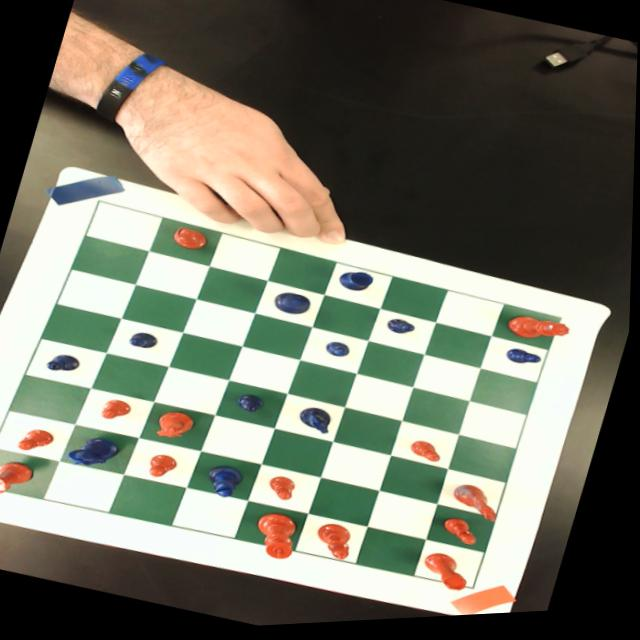B: (205, 462, 248, 502)
K: (272, 289, 316, 321)
N: (66, 430, 125, 475), (299, 405, 339, 439)
P: (47, 349, 86, 376), (507, 350, 545, 374), (237, 392, 270, 418), (130, 330, 161, 353), (387, 319, 419, 341), (324, 341, 354, 363)
R: (337, 268, 376, 298)
b: (316, 523, 360, 565), (170, 224, 211, 255)
k: (250, 509, 305, 565)
n: (451, 484, 509, 530), (154, 407, 201, 447)
p: (441, 517, 486, 553), (17, 423, 60, 457), (267, 473, 302, 506), (146, 451, 181, 483), (409, 440, 447, 468), (102, 396, 135, 425)
q: (506, 314, 575, 355)
r: (419, 551, 479, 599), (0, 452, 40, 502)
